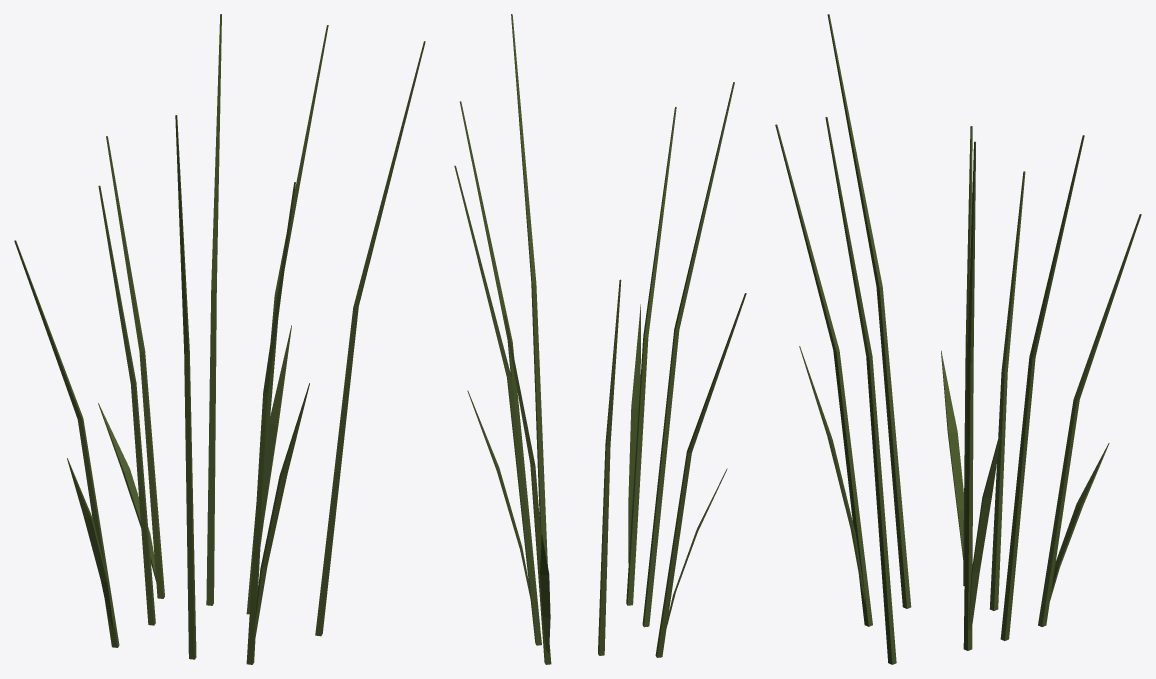
The model's file is plant_007b_reed.glb.
3 renders of one model, left to right at view 1: azimuth 30°, elevation 25°; view 2: azimuth 150°, elevation 25°; view 3: azimuth 270°, elevation 25°, orthographic. The views are drawn at different scales.
Visible parts, largest first — view 1: plant_007b_reed__stems, plant_007b_reed__leaves; view 2: plant_007b_reed__stems, plant_007b_reed__leaves; view 3: plant_007b_reed__stems, plant_007b_reed__leaves.
Part boxes in pixels (x1=…): plant_007b_reed__stems: x1=14, y1=14, x2=425, y2=664; plant_007b_reed__leaves: x1=67, y1=325, x2=309, y2=639; plant_007b_reed__stems: x1=454, y1=14, x2=746, y2=664; plant_007b_reed__leaves: x1=467, y1=304, x2=727, y2=653; plant_007b_reed__stems: x1=775, y1=14, x2=1141, y2=664; plant_007b_reed__leaves: x1=799, y1=346, x2=1109, y2=632.
Size of the model in its own units: 1.06 by 1.81 by 1.04.
